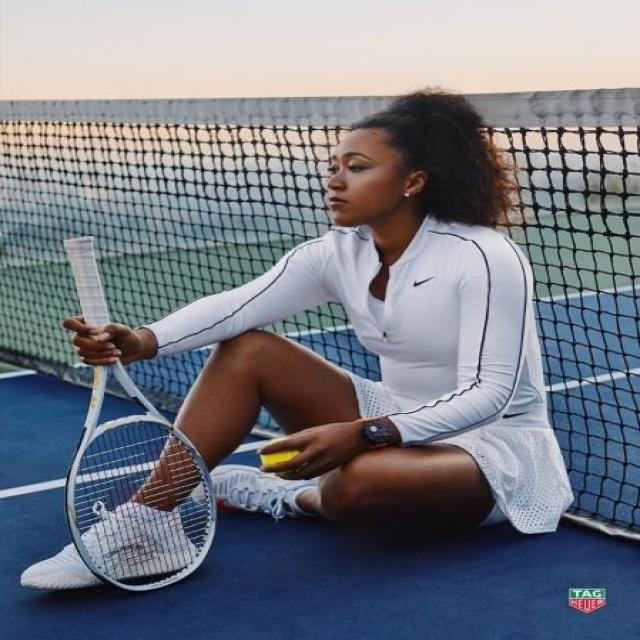nike: (402, 272, 437, 293)
